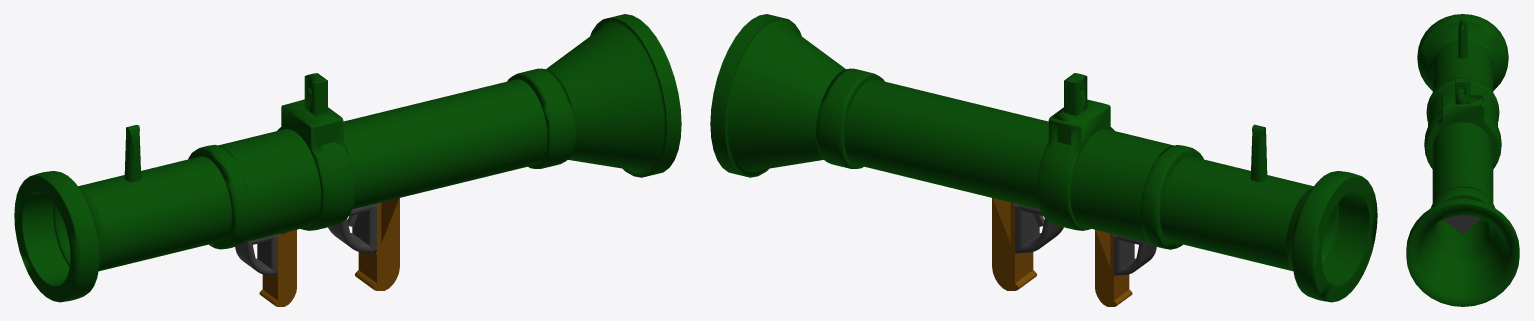
File: weap_rocketl.glb
3 views of the same model, side by side, from view 1: azimuth 30°, elevation 25°; view 2: azimuth 150°, elevation 25°; view 3: azimuth 270°, elevation 25° (orthographic). The views are drawn at different scales.
Parts seen in each view (by area): view 1: Cube_Material_0, Cube.001_Material.003_0, Cube.001_Material.001_0; view 2: Cube_Material_0, Cube.001_Material.003_0, Cube.001_Material.001_0; view 3: Cube_Material_0, Cube.001_Material.001_0.
Part boxes in pixels (x1,y1,x2,y2): Cube_Material_0: (14,14,681,302); Cube.001_Material.003_0: (259,198,399,306); Cube.001_Material.001_0: (235,203,379,275); Cube_Material_0: (710,14,1377,302); Cube.001_Material.003_0: (992,198,1132,306); Cube.001_Material.001_0: (1012,203,1156,275); Cube_Material_0: (1406,14,1519,306); Cube.001_Material.001_0: (1443,215,1480,234).
Size of the model in its own units: 1.41 by 0.5 by 0.3364.
